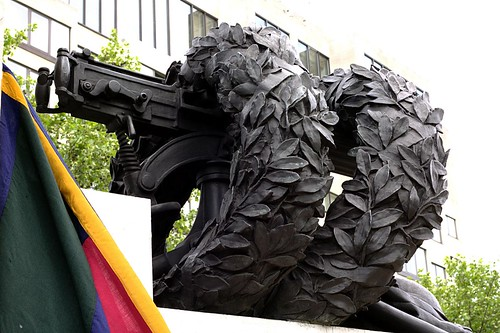tree: (418, 256, 500, 333)
weapon: (16, 33, 226, 227)
